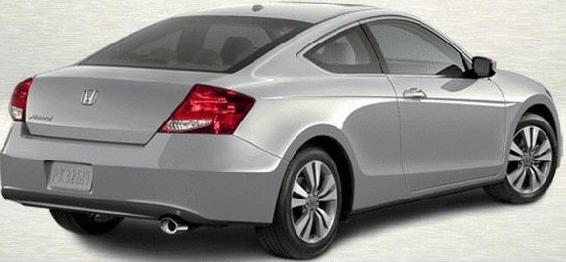back_view: (12, 70, 258, 245)
backlight: (143, 77, 246, 153)
side_glass: (323, 19, 486, 80)
